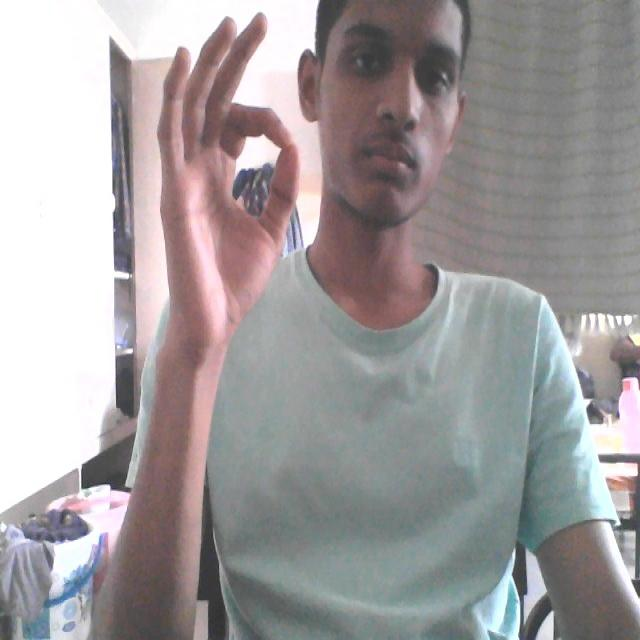Yes: (122, 23, 332, 365)
